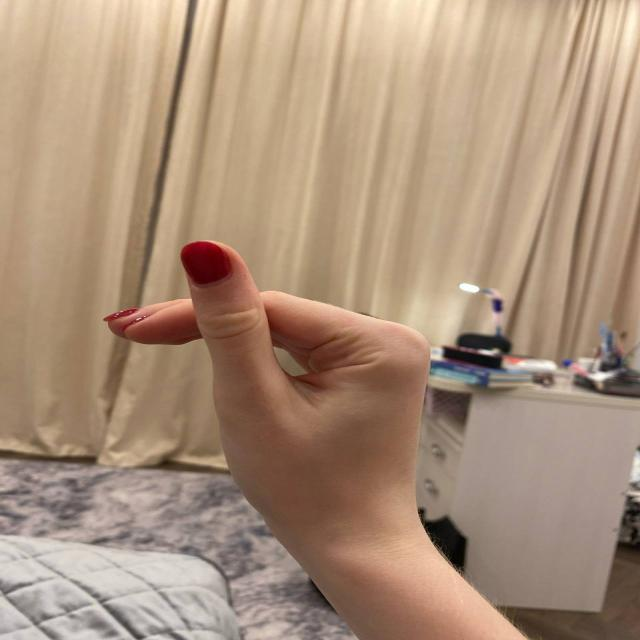f: (51, 226, 465, 506)
